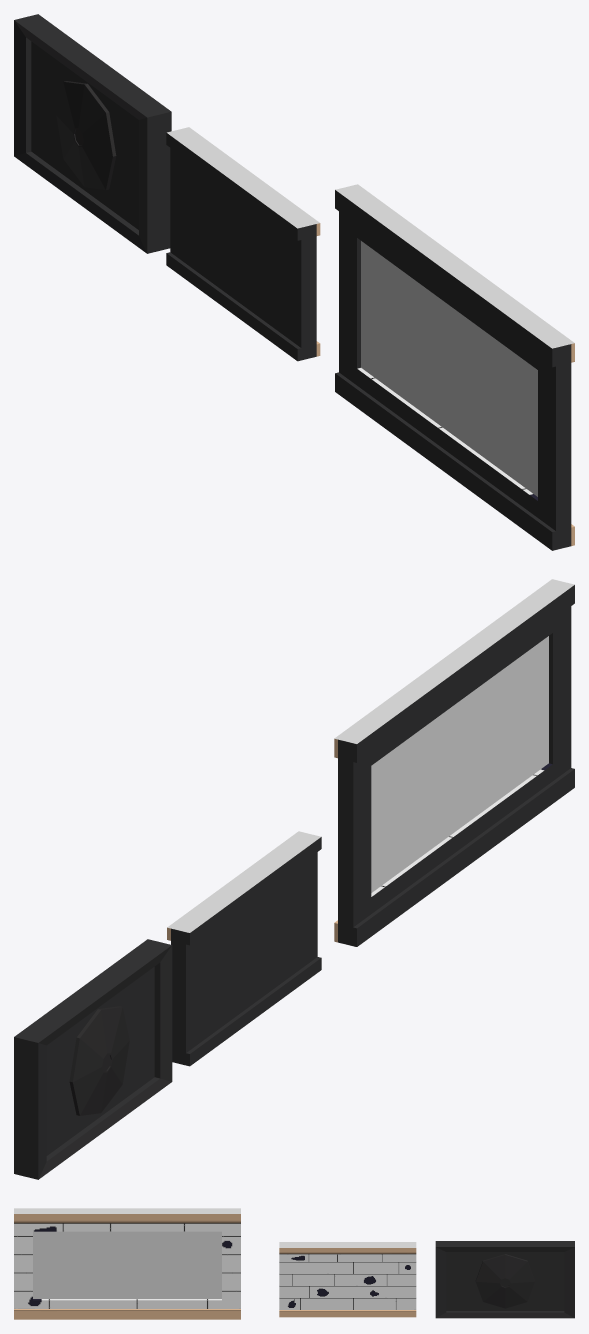
The model's file is estructuras del edificio PAREDES.fbx.
3 renders of one model, top to bottom at view 1: azimuth 30°, elevation 25°; view 2: azimuth 150°, elevation 25°; view 3: azimuth 270°, elevation 25°, orthographic. The views are drawn at different scales.
Parts seen in each view (by area): view 1: PARED, ENTRADA, Pared 1; view 2: PARED, ENTRADA, Pared 1; view 3: PARED, ENTRADA, Pared 1.
Boxes of the visible parts, bbox=[...] form: PARED: bbox=[335, 184, 574, 550]; ENTRADA: bbox=[14, 14, 171, 253]; Pared 1: bbox=[166, 127, 320, 361]; PARED: bbox=[334, 579, 574, 946]; ENTRADA: bbox=[14, 939, 172, 1179]; Pared 1: bbox=[167, 831, 321, 1066]; PARED: bbox=[14, 1208, 240, 1319]; ENTRADA: bbox=[435, 1241, 574, 1318]; Pared 1: bbox=[279, 1242, 416, 1317].
Bounding box in the file's own units: 374 × 12245 × 2547.
